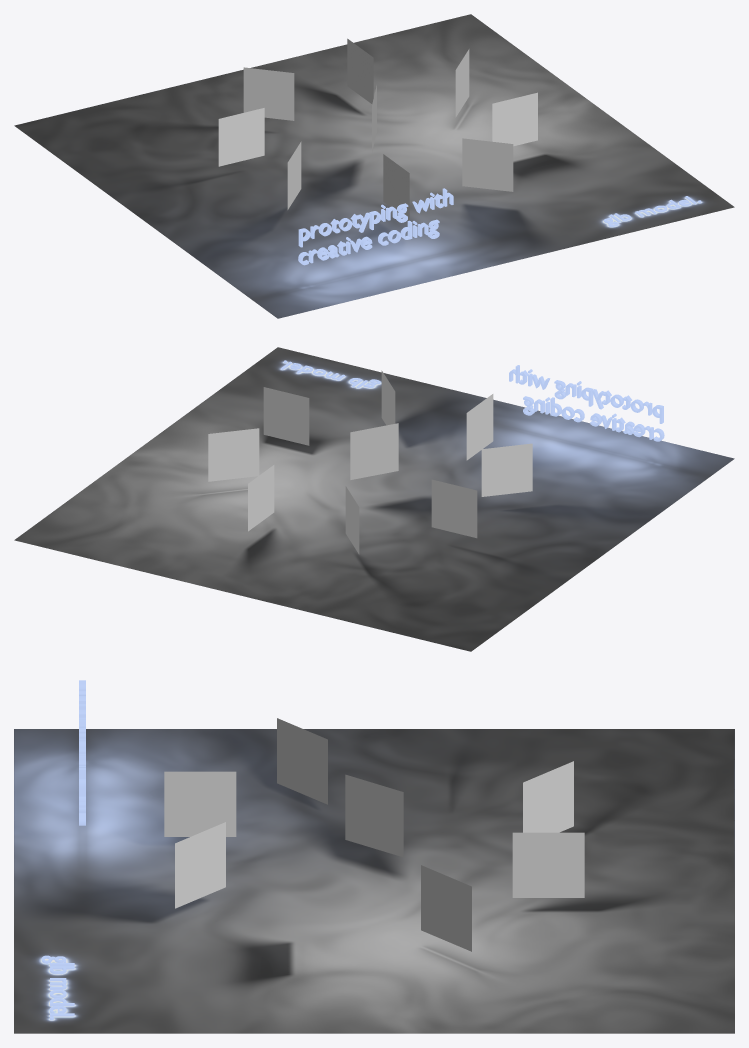
Rendered from world00.glb.
3 renders of one model, top to bottom at view 1: azimuth 30°, elevation 25°; view 2: azimuth 150°, elevation 25°; view 3: azimuth 270°, elevation 25°, orthographic. The views are drawn at different scales.
Visible parts, largest first — view 1: 平面, テキスト.001, panel_00.007, panel_00.003, panel_00.004, panel_00.000, panel_00.002, panel_00.006, panel_00.001, panel_00.005, テキスト; view 2: 平面, テキスト.001, panel_00.001, panel_00.005, movie_00, panel_00.000, panel_00.004, panel_00.006, panel_00.002, panel_00.003, panel_00.007, テキスト; view 3: 平面, panel_00.002, panel_00.006, movie_00, panel_00.001, panel_00.007, panel_00.005, panel_00.003, テキスト, テキスト.001.
Boxes of the visible parts, bbox=[...] form: 平面: bbox=[14, 14, 734, 318]; テキスト.001: bbox=[298, 188, 453, 265]; panel_00.007: bbox=[462, 138, 513, 191]; panel_00.003: bbox=[243, 67, 294, 120]; panel_00.004: bbox=[218, 108, 264, 166]; panel_00.000: bbox=[492, 92, 537, 146]; panel_00.002: bbox=[347, 38, 373, 103]; panel_00.006: bbox=[383, 154, 409, 220]; panel_00.001: bbox=[455, 49, 469, 117]; panel_00.005: bbox=[287, 141, 301, 209]; テキスト: bbox=[604, 196, 701, 226]; 平面: bbox=[14, 347, 734, 651]; テキスト.001: bbox=[509, 365, 664, 441]; panel_00.001: bbox=[208, 428, 259, 481]; panel_00.005: bbox=[481, 443, 532, 496]; movie_00: bbox=[350, 423, 398, 479]; panel_00.000: bbox=[263, 387, 309, 445]; panel_00.004: bbox=[431, 479, 477, 538]; panel_00.006: bbox=[466, 394, 493, 460]; panel_00.002: bbox=[248, 465, 274, 531]; panel_00.003: bbox=[345, 486, 359, 554]; panel_00.007: bbox=[381, 370, 395, 425]; テキスト: bbox=[281, 360, 380, 388]; 平面: bbox=[14, 729, 734, 1033]; panel_00.002: bbox=[512, 832, 584, 897]; panel_00.006: bbox=[164, 771, 236, 836]; movie_00: bbox=[345, 774, 403, 857]; panel_00.001: bbox=[421, 865, 471, 951]; panel_00.007: bbox=[175, 822, 225, 908]; panel_00.005: bbox=[277, 718, 327, 804]; panel_00.003: bbox=[523, 761, 573, 832]; テキスト: bbox=[41, 955, 74, 1020]; テキスト.001: bbox=[79, 680, 85, 825].
Bounding box in the file's own units: 20 × 3 × 20.
Materials: 10 (1 with a texture image).
